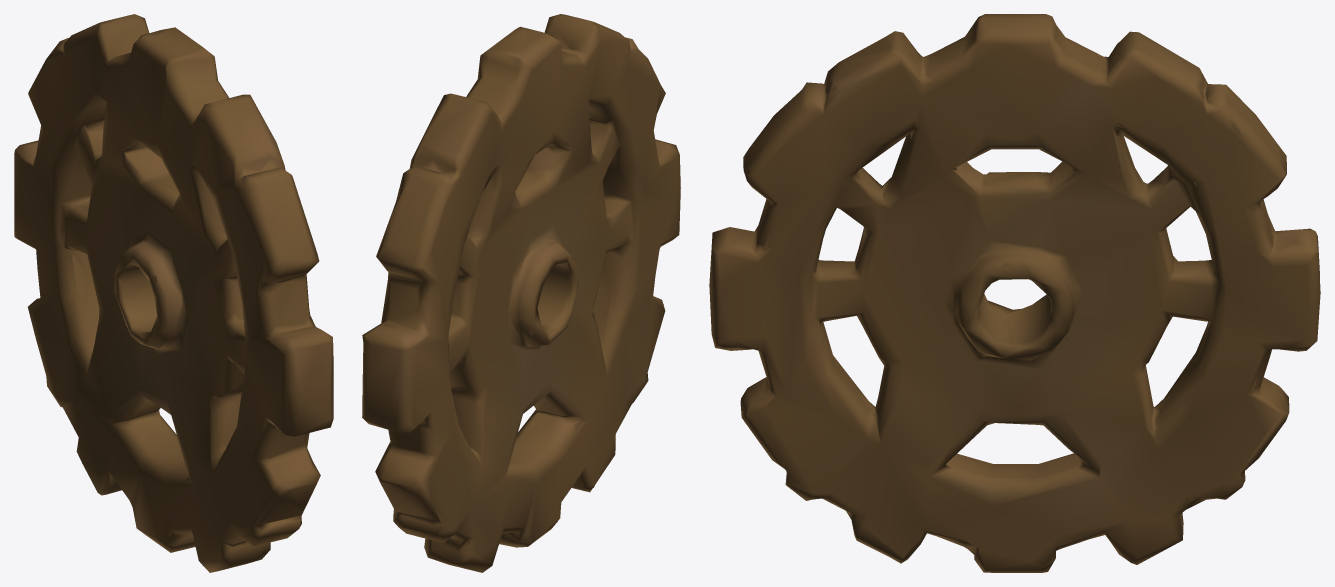
File: gen3d-giant-gear-lod0.glb
3 renders of one model, left to right at view 1: azimuth 30°, elevation 25°; view 2: azimuth 150°, elevation 25°; view 3: azimuth 270°, elevation 25°, orthographic. The views are drawn at different scales.
Visible parts, largest first — view 1: part_0; view 2: part_0; view 3: part_0.
Part boxes in pixels (<box>): part_0: <box>14,14,333,572</box>; part_0: <box>362,14,680,572</box>; part_0: <box>709,14,1320,572</box>.
Bounding box in the file's own units: 0.1539 × 1 × 1.02.
